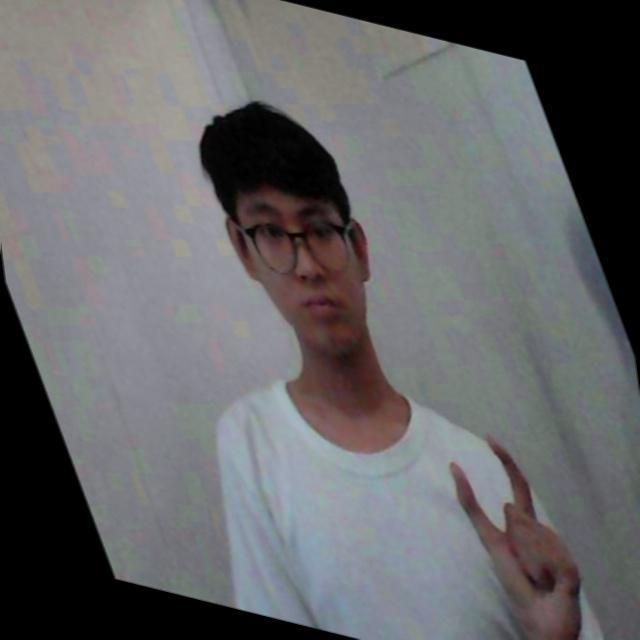U: (439, 432, 577, 598)
